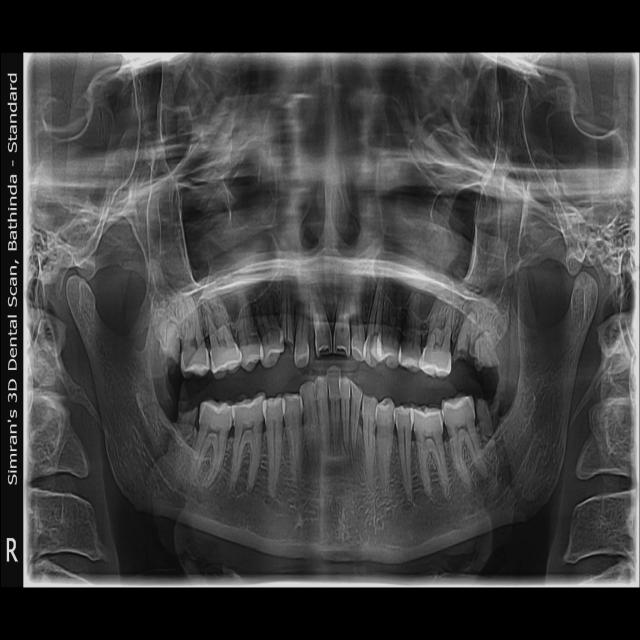Root Piece: (282, 272, 294, 350)
